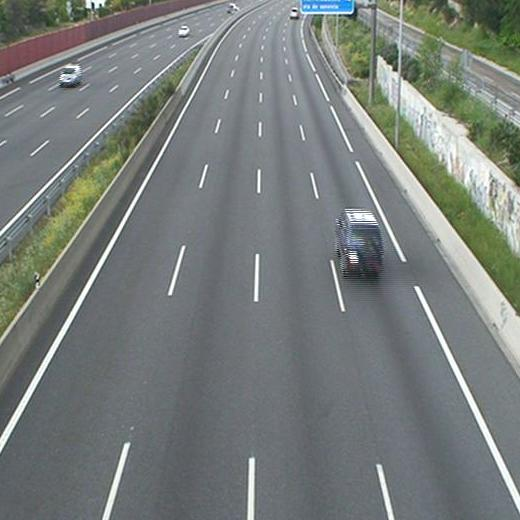van: (337, 209, 384, 280)
